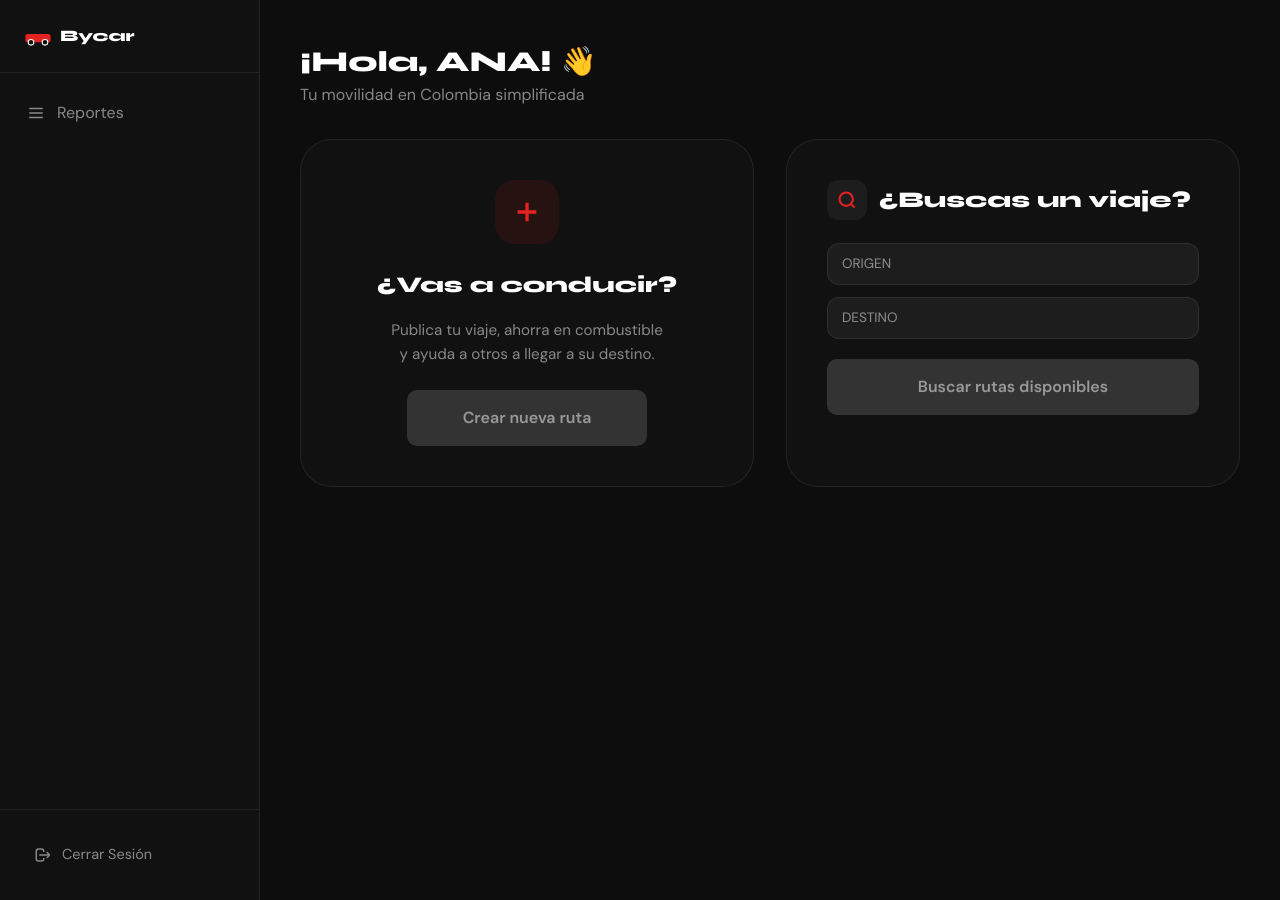
it: Dashboard · menú según permisos (caracterización) › un menú desconocido abre la vista dinámica con su etiqueta e identificador
Step 1. Click the text "Reportes" → (75, 112), box [27,102,124,123]
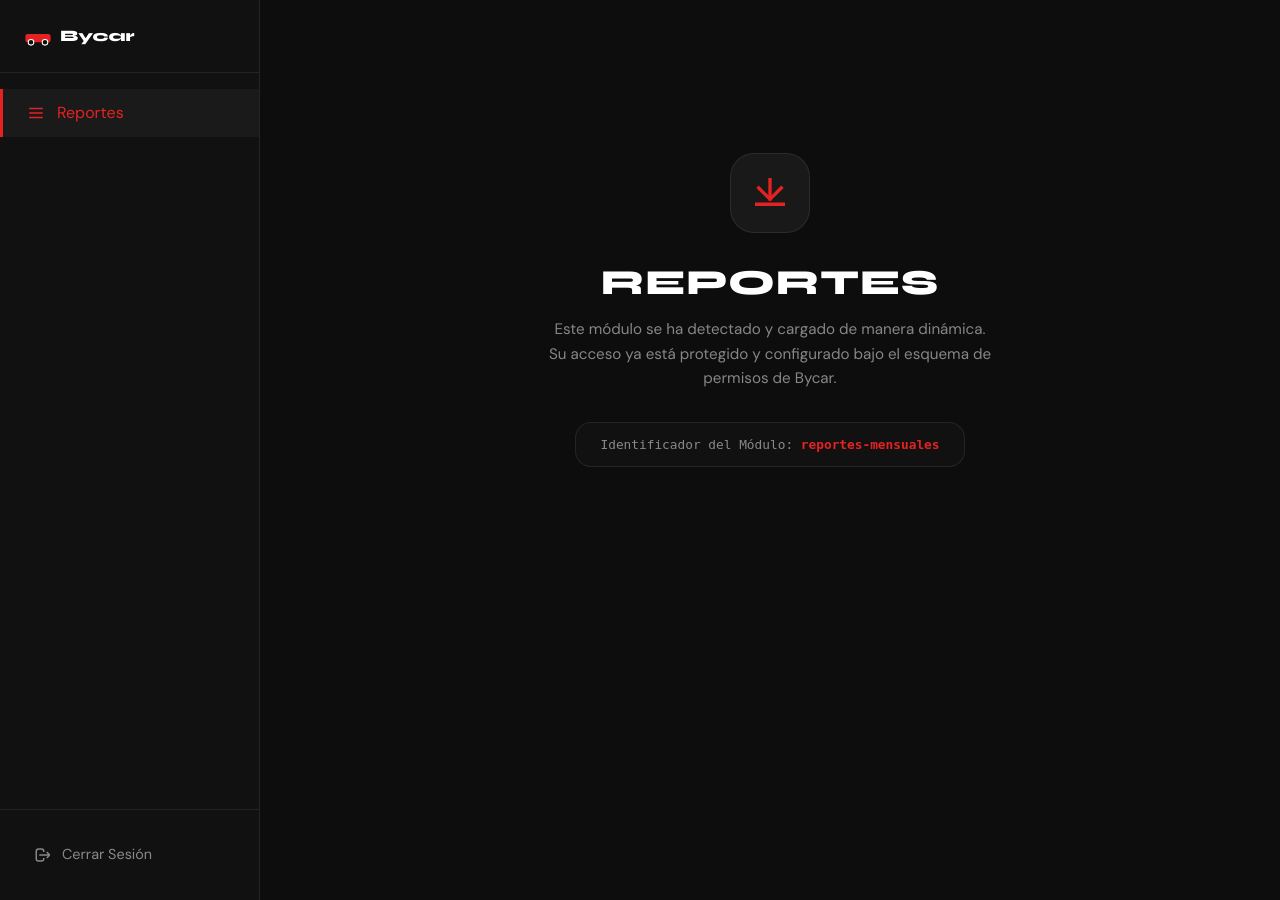
expect the heading reads "Reportes": met, box [601,260,939,304]
expect the text "reportes-mensuales" is shown: met, box [801,437,940,452]
